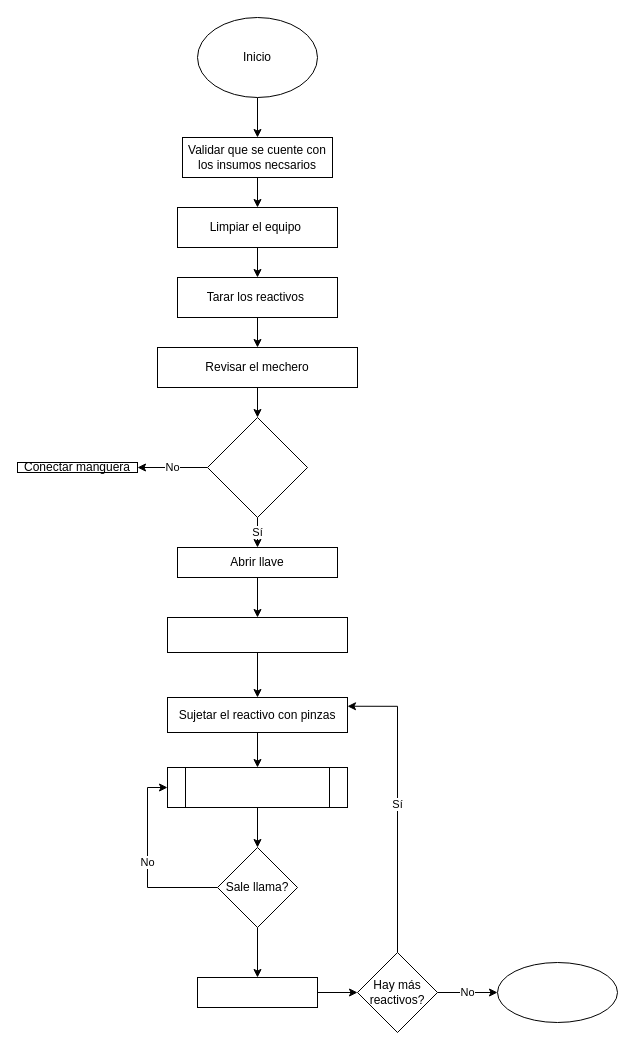
This 635x1050 diagram has some shape labels left out. Here are the shapes that lost their labels. From the top down, the centre of each, then its label:
(257,467): Mechero está conectado?
(257,634): Encender
(257,787): Acercar al mechero de los reactivos
(257,992): Anotar resultados
(557,992): Fin
